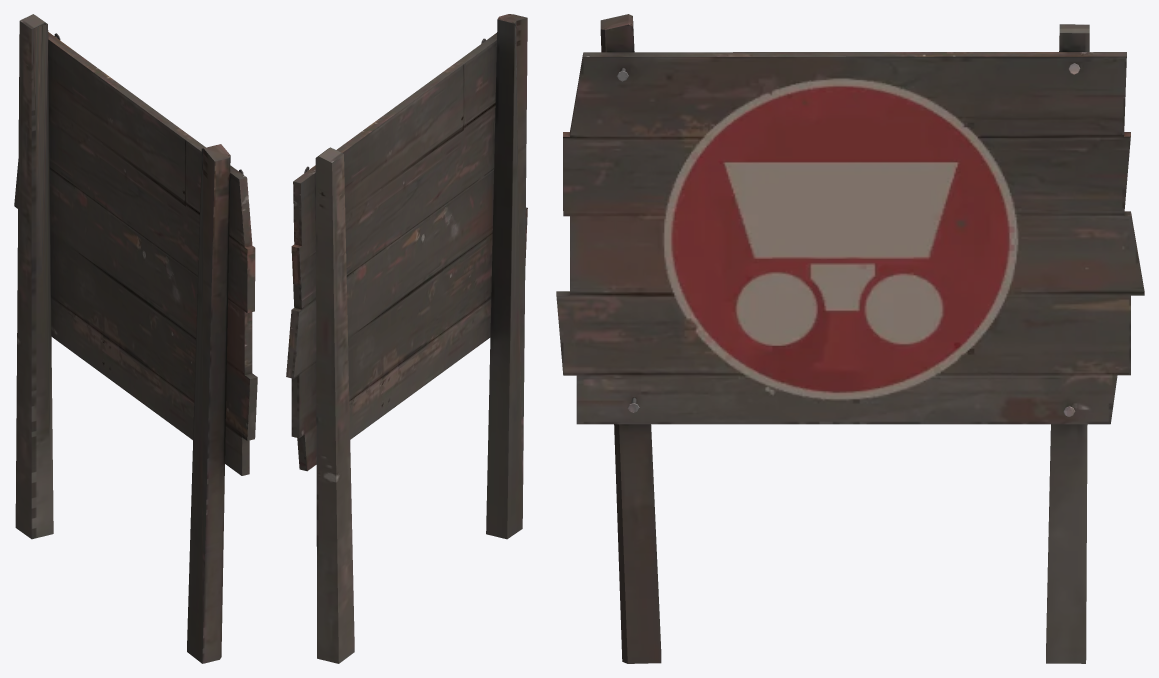
3 renders of one model, left to right at view 1: azimuth 30°, elevation 25°; view 2: azimuth 150°, elevation 25°; view 3: azimuth 270°, elevation 25°, orthographic. The views are drawn at different scales.
Visible parts, largest first — view 1: body0_model0_lod0_mesh0; view 2: body0_model0_lod0_mesh0; view 3: body0_model0_lod0_mesh0.
Boxes of the visible parts, <box> form: body0_model0_lod0_mesh0: <box>14,14,257,663</box>; body0_model0_lod0_mesh0: <box>286,14,527,663</box>; body0_model0_lod0_mesh0: <box>556,14,1144,663</box>.
Bounding box in the file's own units: 11.74 × 143 × 119.
1 material, 1 textured.
